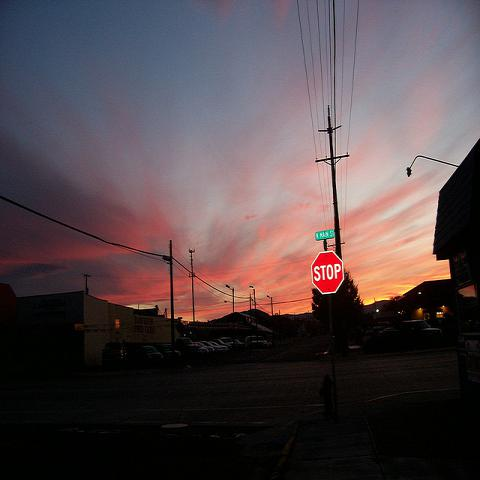car: (398, 320, 442, 342), (156, 342, 181, 367), (142, 346, 163, 366), (246, 336, 268, 349), (208, 340, 228, 354), (213, 338, 232, 352), (200, 341, 222, 353), (193, 342, 215, 351)
